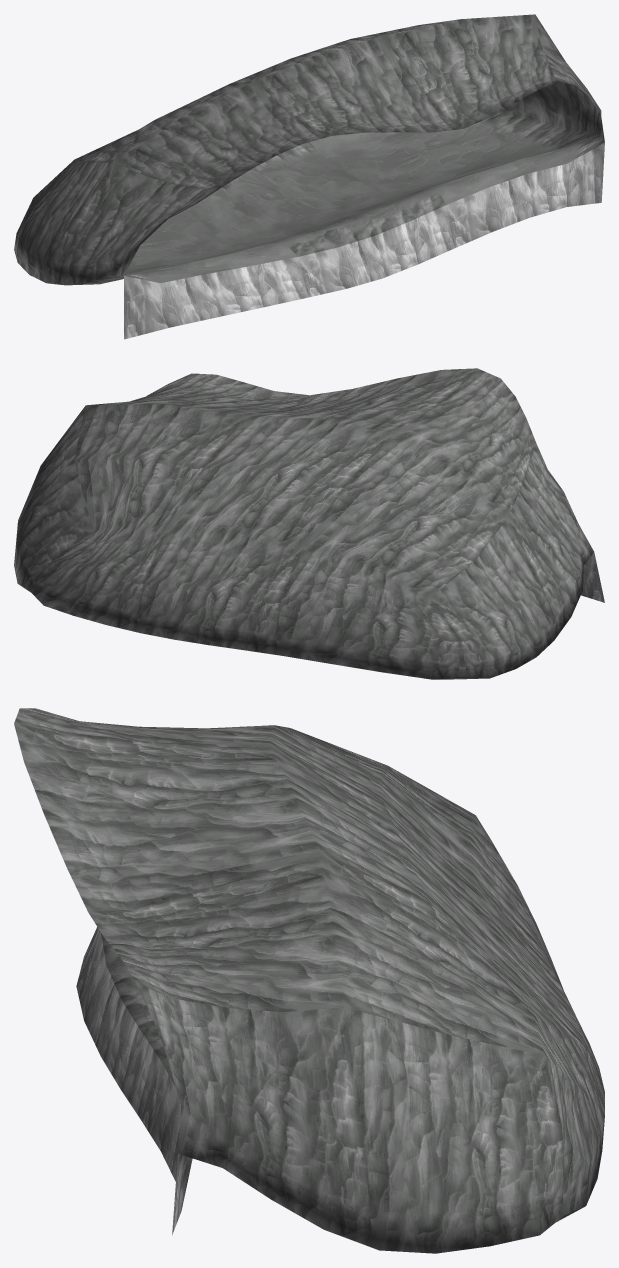
Rendered from SWORDLIGHT20_PS-AREA03_11.fbx.
The picture shows the model from 3 angles, top to bottom: view 1: azimuth 30°, elevation 25°; view 2: azimuth 150°, elevation 25°; view 3: azimuth 270°, elevation 25°; orthographic projection. The views are drawn at different scales.
Visible parts, largest first — view 1: SWORDLIGHT20_PS-AREA03_11; view 2: SWORDLIGHT20_PS-AREA03_11; view 3: SWORDLIGHT20_PS-AREA03_11.
Boxes of the visible parts, box(x1,y1,x2,y2) form: SWORDLIGHT20_PS-AREA03_11: box(14, 14, 604, 339); SWORDLIGHT20_PS-AREA03_11: box(14, 368, 604, 679); SWORDLIGHT20_PS-AREA03_11: box(14, 708, 604, 1253).
Bounding box in the file's own units: 254380 × 84267 × 157613.
5 materials, 5 textured.
